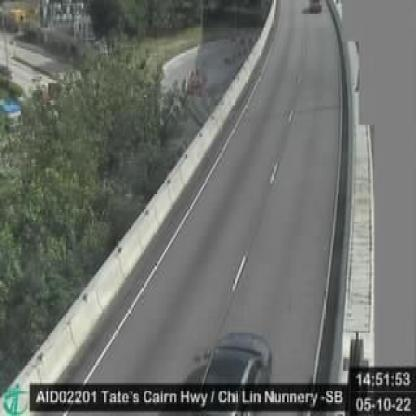Car: (192, 330, 273, 414)
